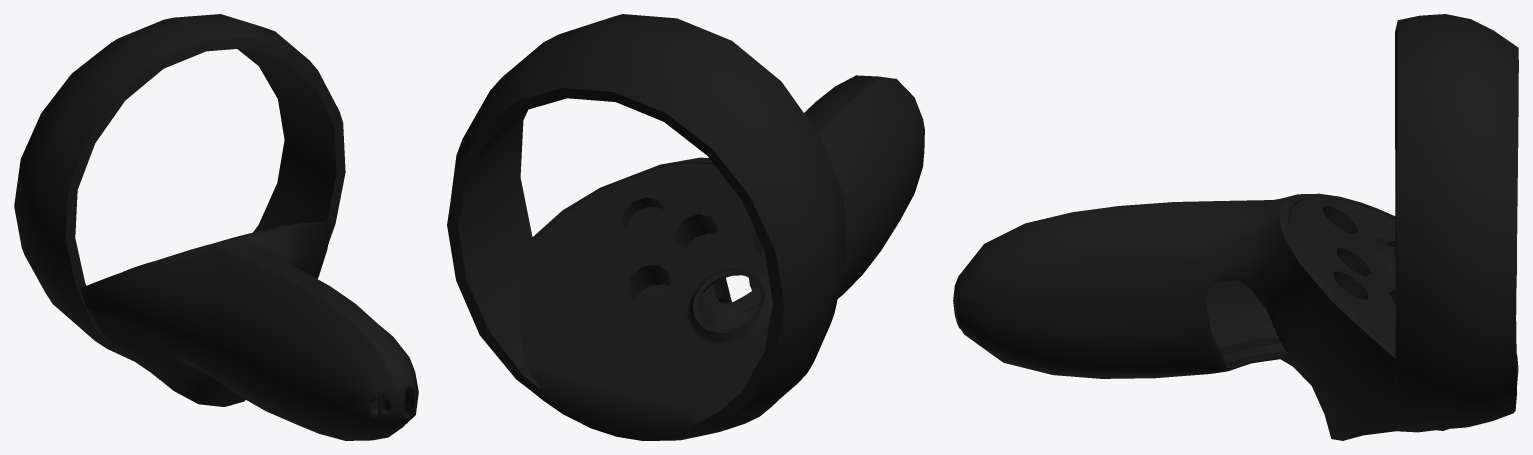
The model's file is body.obj.
3 views of the same model, side by side, from view 1: azimuth 30°, elevation 25°; view 2: azimuth 150°, elevation 25°; view 3: azimuth 270°, elevation 25° (orthographic). The views are drawn at different scales.
Parts seen in each view (by area): view 1: crystal_controller_left; view 2: crystal_controller_left; view 3: crystal_controller_left.
Boxes of the visible parts, bbox=[...] form: crystal_controller_left: bbox=[14, 14, 418, 440]; crystal_controller_left: bbox=[447, 14, 924, 440]; crystal_controller_left: bbox=[953, 14, 1518, 440].
Size of the model in its own units: 0.0943 by 0.1029 by 0.1312.
1 material, 1 textured.
